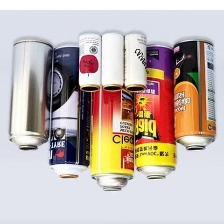aerosol_cans: (44, 40, 95, 182), (131, 42, 179, 185), (88, 49, 135, 194), (4, 36, 56, 154), (170, 37, 219, 154)
can: (120, 29, 149, 95), (100, 30, 128, 92), (76, 30, 103, 94)
